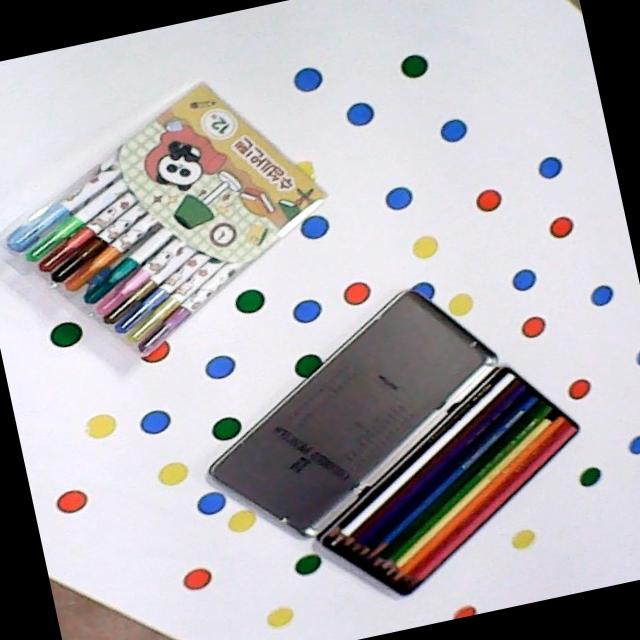color: (309, 358, 594, 611)
signpen: (0, 72, 342, 372)
